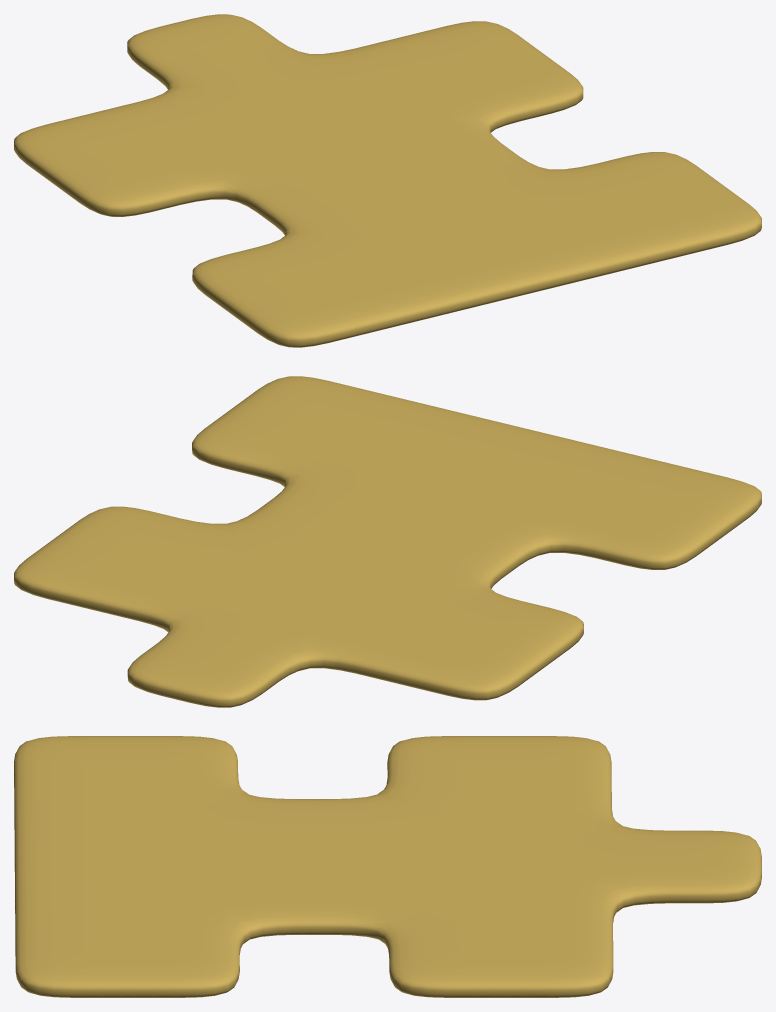
File: GoldenPuzzle-11-OFMF.fbx
3 views of the same model, one above another, from view 1: azimuth 30°, elevation 25°; view 2: azimuth 150°, elevation 25°; view 3: azimuth 270°, elevation 25° (orthographic). The views are drawn at different scales.
Visible parts, largest first — view 1: Puzzle_011; view 2: Puzzle_011; view 3: Puzzle_011.
Part boxes in pixels (left/top/right/bottom): Puzzle_011: left=14, top=14, right=761, bottom=347; Puzzle_011: left=14, top=376, right=761, bottom=707; Puzzle_011: left=14, top=736, right=761, bottom=997.
Size of the model in its own units: 0.25 by 0.00924 by 0.3137.
